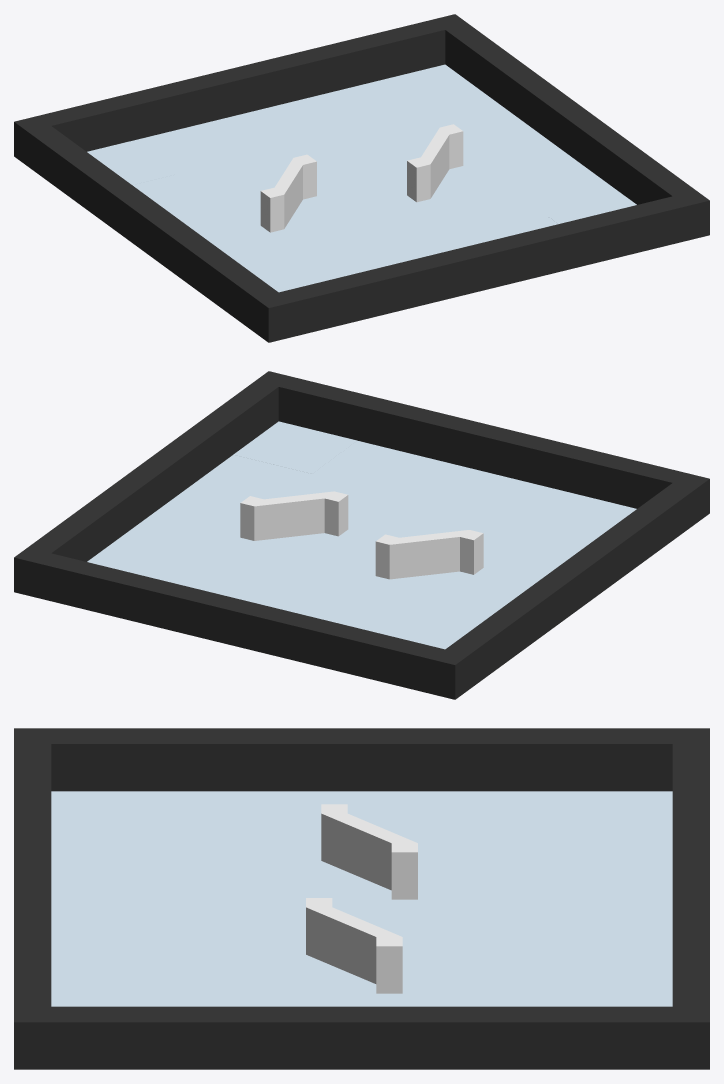
Rendered from rmul2027-1v1.glb.
3 renders of one model, top to bottom at view 1: azimuth 30°, elevation 25°; view 2: azimuth 150°, elevation 25°; view 3: azimuth 270°, elevation 25°, orthographic. The views are drawn at different scales.
Parts seen in each view (by area): view 1: =>[0:1:1:2], =>[0:1:1:3]; view 2: =>[0:1:1:2], =>[0:1:1:3]; view 3: =>[0:1:1:2], =>[0:1:1:3].
Boxes of the visible parts, x1,y1,x2,y2 form: =>[0:1:1:2]: (14, 14, 709, 342); =>[0:1:1:3]: (27, 108, 686, 259); =>[0:1:1:2]: (14, 371, 709, 699); =>[0:1:1:3]: (187, 388, 559, 693); =>[0:1:1:2]: (14, 728, 709, 1069); =>[0:1:1:3]: (51, 746, 672, 1069).
Bounding box in the file's own units: 5.6 × 0.421 × 5.6.
